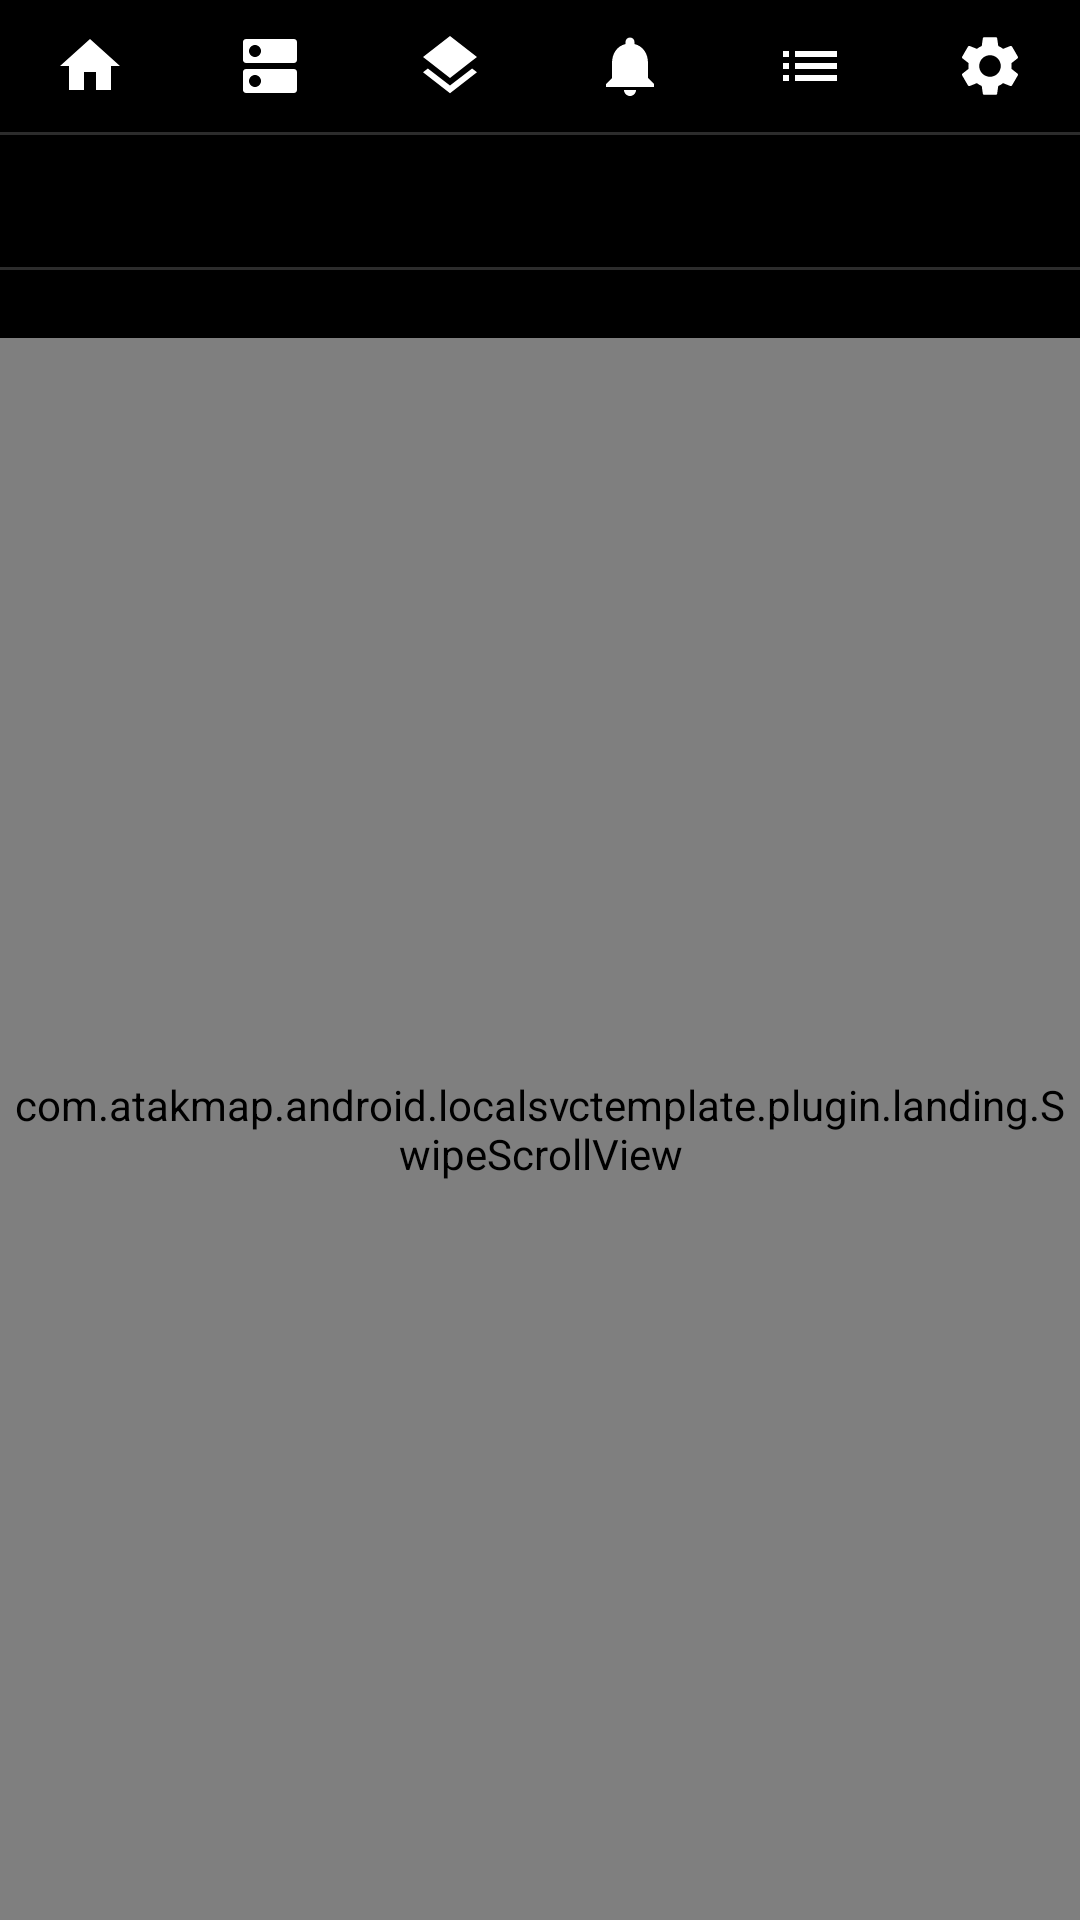

Named icons in this screenshot (1080px x 1920px) and their bounding boxes, {"x1": x1, "y1": y1, "x2": x2, "y2": y2}:
Alerts: {"x1": 606, "y1": 37, "x2": 654, "y2": 96}
Layers: {"x1": 423, "y1": 36, "x2": 477, "y2": 93}
Log: {"x1": 783, "y1": 51, "x2": 837, "y2": 81}
Services: {"x1": 243, "y1": 39, "x2": 297, "y2": 93}
Settings: {"x1": 962, "y1": 37, "x2": 1018, "y2": 95}
